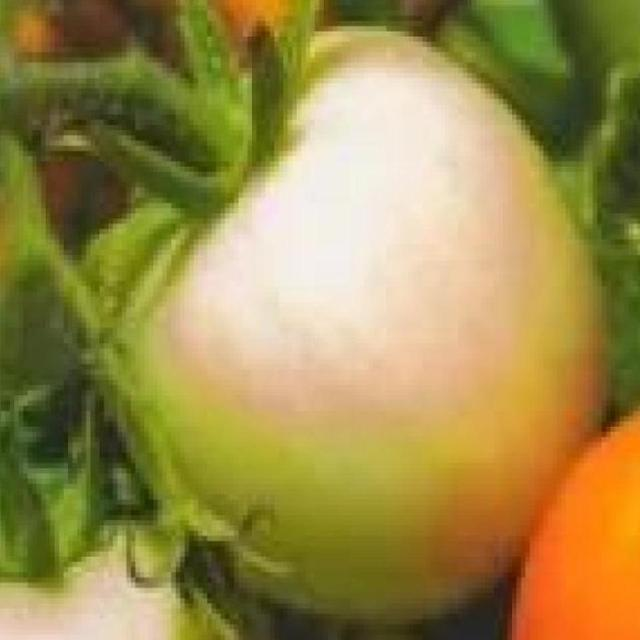Sunscald Fruit: (52, 62, 266, 390)
